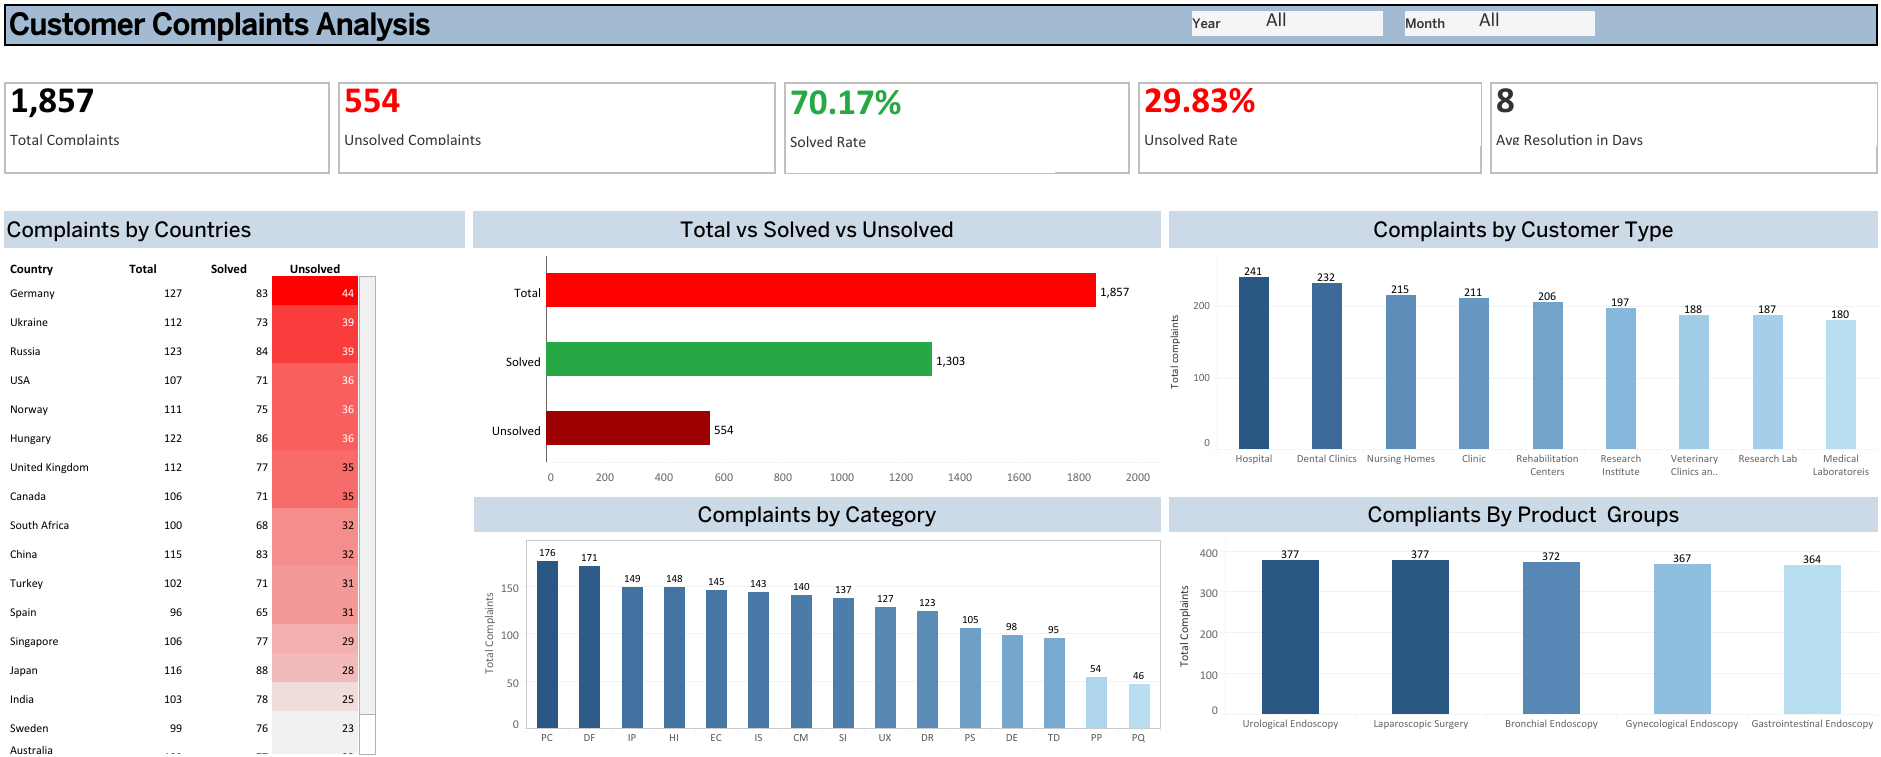

This screenshot's page, from the dashboard's own definition file:
{"tool":"tableau","page":{"name":"Dashboard 1","canvas":[1000,1000],"units":"permille","ordinal":0},"visuals":[{"type":"filter","title":"c by product group","param":"[federated.1eegcv40hl8pdq180w3gi1y4jklu].[mn:Date:ok]","box":[712,12.8,100.6,71.8]},{"type":"filter","title":"c by product group","param":"[federated.1eegcv40hl8pdq180w3gi1y4jklu].[yr:Date:ok]","box":[600.6,15.1,103.8,74.2]},{"type":"worksheet","title":"kpi - Unsolved rate","mark":"Automatic","box":[179.6,82.3,191,141]},{"type":"worksheet","title":"kpi - resoltion rate in %","mark":"Automatic","box":[378.2,82.3,148.6,142.2]},{"type":"worksheet","title":"kpi - unsolved rate in %","mark":"Automatic","box":[532.6,83.4,200.5,139.8]},{"type":"worksheet","title":"kpi - average resolution rate","mark":"Automatic","box":[736.9,83.4,260.6,138.7]},{"type":"worksheet","title":"kpi - total complaints","mark":"Automatic","box":[2.5,84.6,161.9,137.5]},{"type":"text","box":[2.5,241,219.8,62.6]},{"type":"text","box":[230.2,241,373,64.9]},{"type":"text","box":[609.4,241,386.8,63.7]},{"type":"worksheet","title":"c by customer type","mark":"Automatic","rows":["Calculation_1060316244971700224"],"cols":["Customer Type"],"box":[610.1,303.6,387.4,311.7]},{"type":"worksheet","title":"c by countries","mark":"Square","rows":["Country"],"box":[3.2,304,219.5,694.9]},{"type":"worksheet","title":"Total vs Solved vs unsolved","mark":"Automatic","box":[230.2,305.9,373,308.2]},{"type":"text","box":[229,617.1,377,59.4]},{"type":"text","box":[611,619.4,379.5,60.6]},{"type":"worksheet","title":"c by categories ","mark":"Automatic","rows":["Calculation_1060316244971700224"],"cols":["Calculation_2732840560030527490","Complaint Category"],"box":[220.8,682.3,387.1,314.3]}]}

Visuals, with their boxes on the dashboard's canvas, which has no fixed pixel size, in thousandths of its width and height (x1, y1, x2, y2). These are canvas units, not pixel positions in the 1881x757 screenshot, which may show the page scaled, cropped or inside an application window:
"c by product group" filter: l=712, t=13, r=813, b=85
"c by product group" filter: l=601, t=15, r=704, b=89
"kpi - Unsolved rate" worksheet: l=180, t=82, r=371, b=223
"kpi - resoltion rate in %" worksheet: l=378, t=82, r=527, b=224
"kpi - unsolved rate in %" worksheet: l=533, t=83, r=733, b=223
"kpi - average resolution rate" worksheet: l=737, t=83, r=998, b=222
"kpi - total complaints" worksheet: l=2, t=85, r=164, b=222
text: l=2, t=241, r=222, b=304
text: l=230, t=241, r=603, b=306
text: l=609, t=241, r=996, b=305
"c by customer type" worksheet: l=610, t=304, r=998, b=615
"c by countries" worksheet (Square marks): l=3, t=304, r=223, b=999
"Total vs Solved vs unsolved" worksheet: l=230, t=306, r=603, b=614
text: l=229, t=617, r=606, b=676
text: l=611, t=619, r=990, b=680
"c by categories " worksheet: l=221, t=682, r=608, b=997
